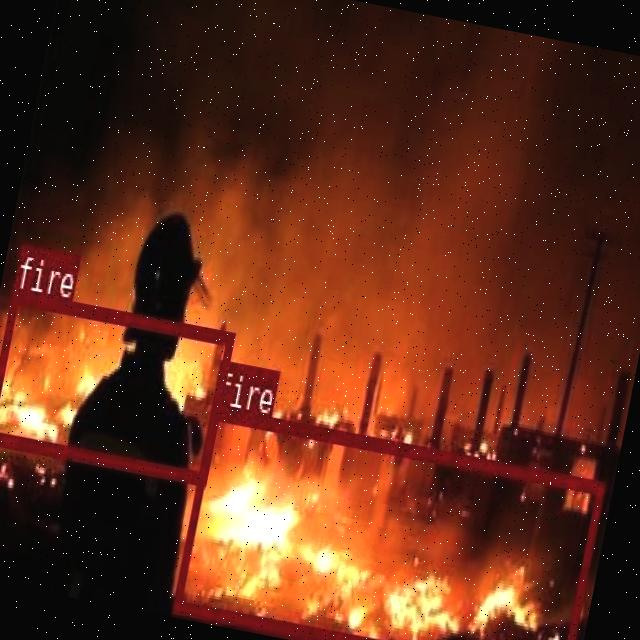fire: (171, 405, 603, 640), (0, 288, 233, 481)
